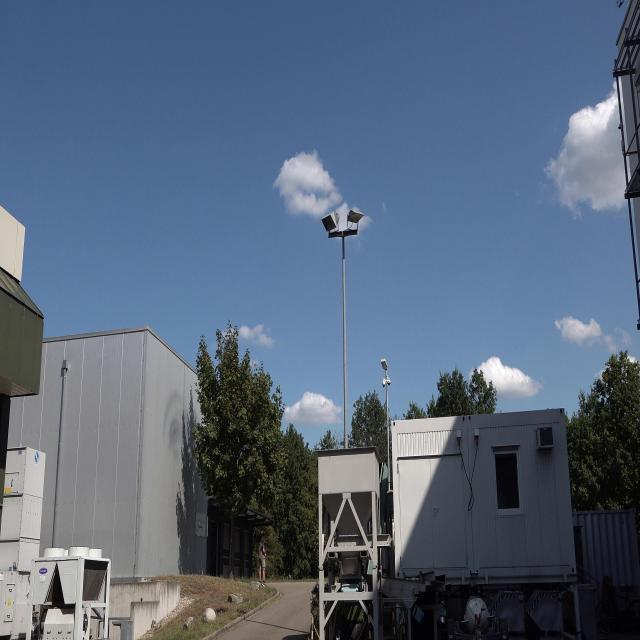drone: (609, 1, 624, 12)
